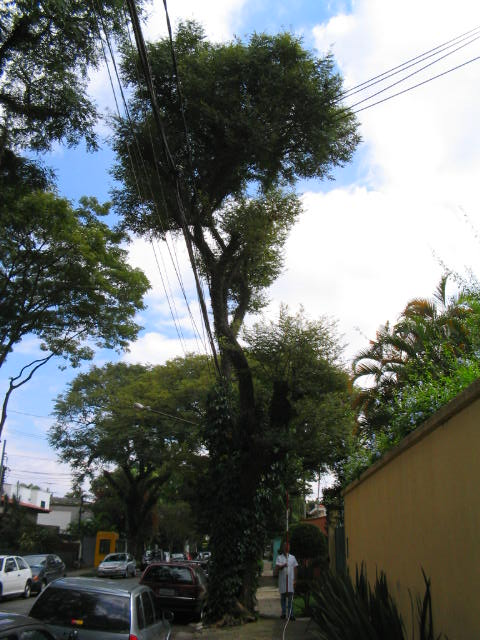crown: (106, 16, 361, 330), (48, 358, 212, 489)
stem: (191, 426, 277, 625), (110, 508, 154, 567)
stick: (277, 489, 296, 619)
tree: (103, 14, 361, 627), (48, 356, 214, 570)
